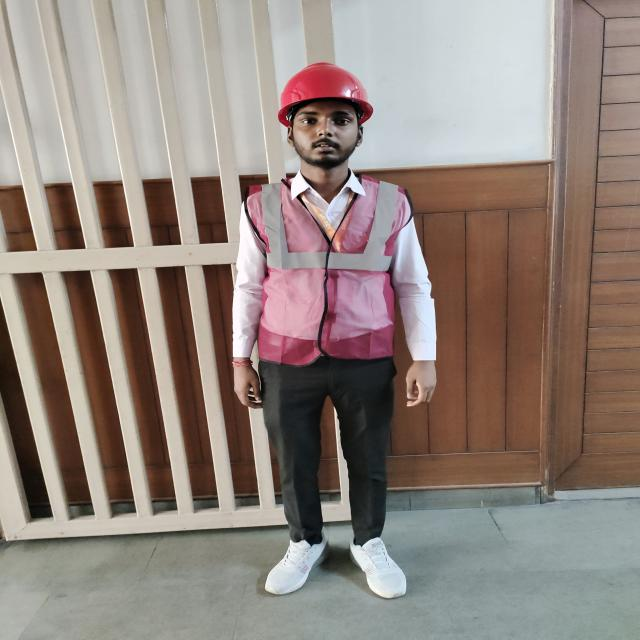safe: (232, 62, 414, 598)
